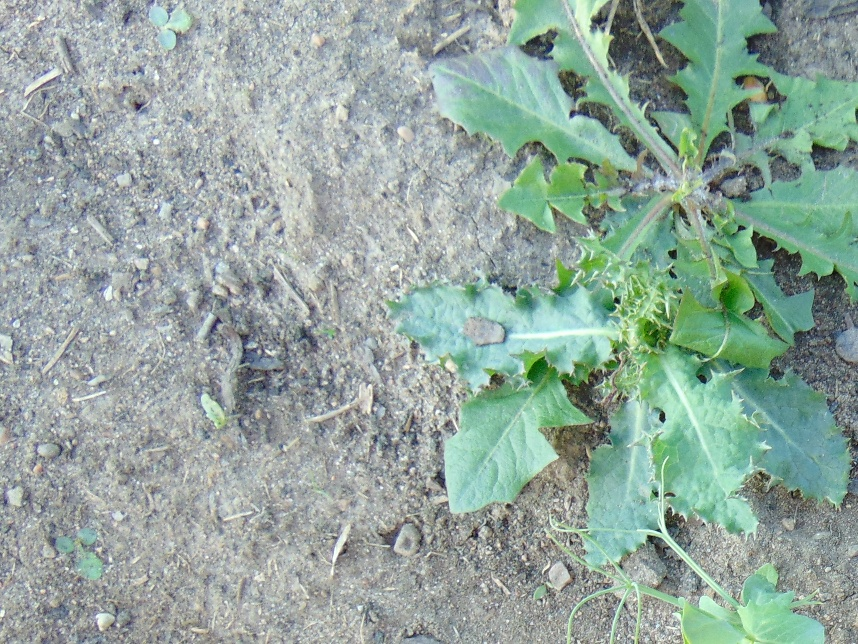crop: (558, 510, 824, 644)
weed: (391, 235, 858, 567), (445, 1, 857, 311), (54, 525, 105, 579), (146, 4, 195, 48)
